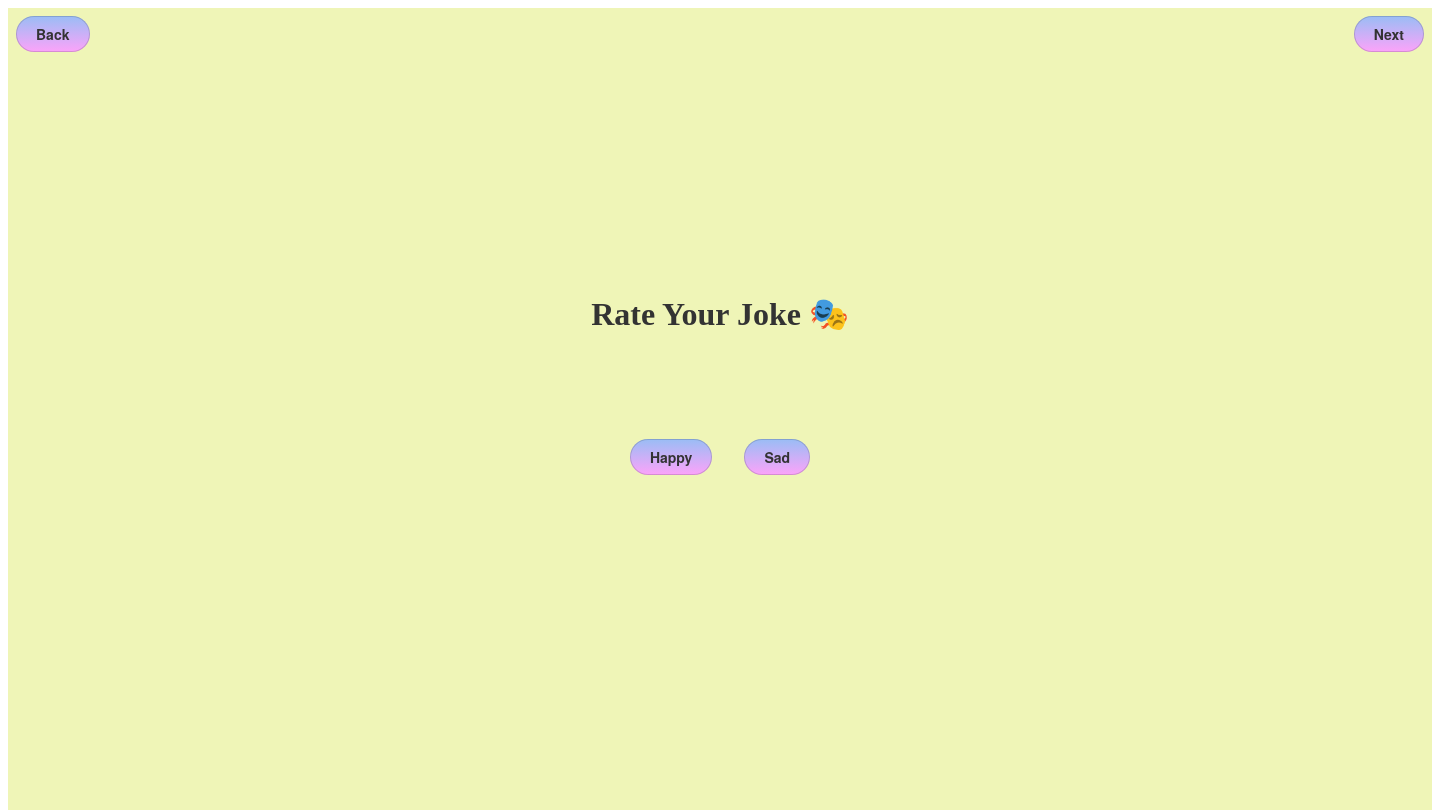
Test case: RateJoke › updates the sad state when the sad button is clicked
Click the button "Sad" at (777, 457), box [744,439,810,475]
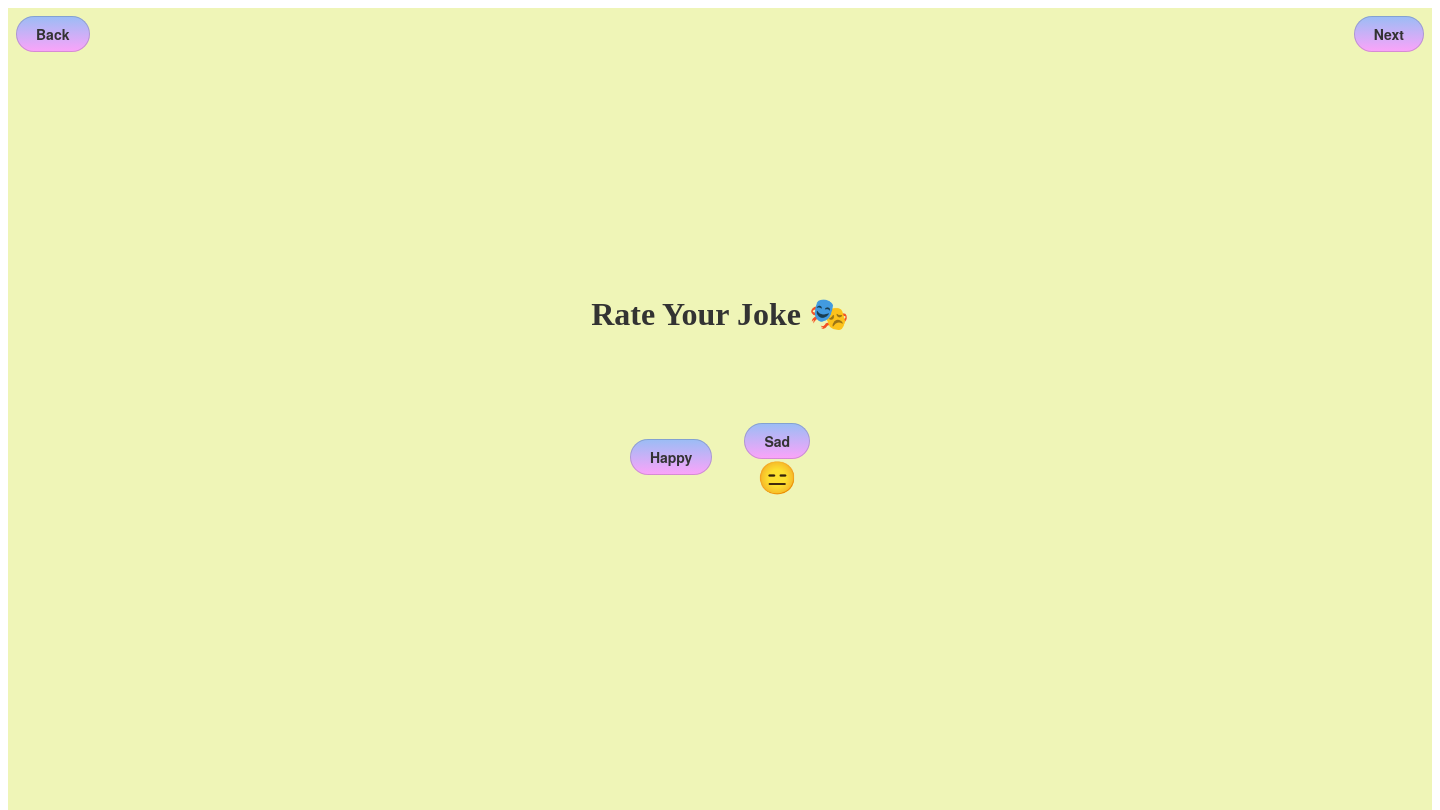
Result: the text "😑" is shown at [757,459,797,491]
